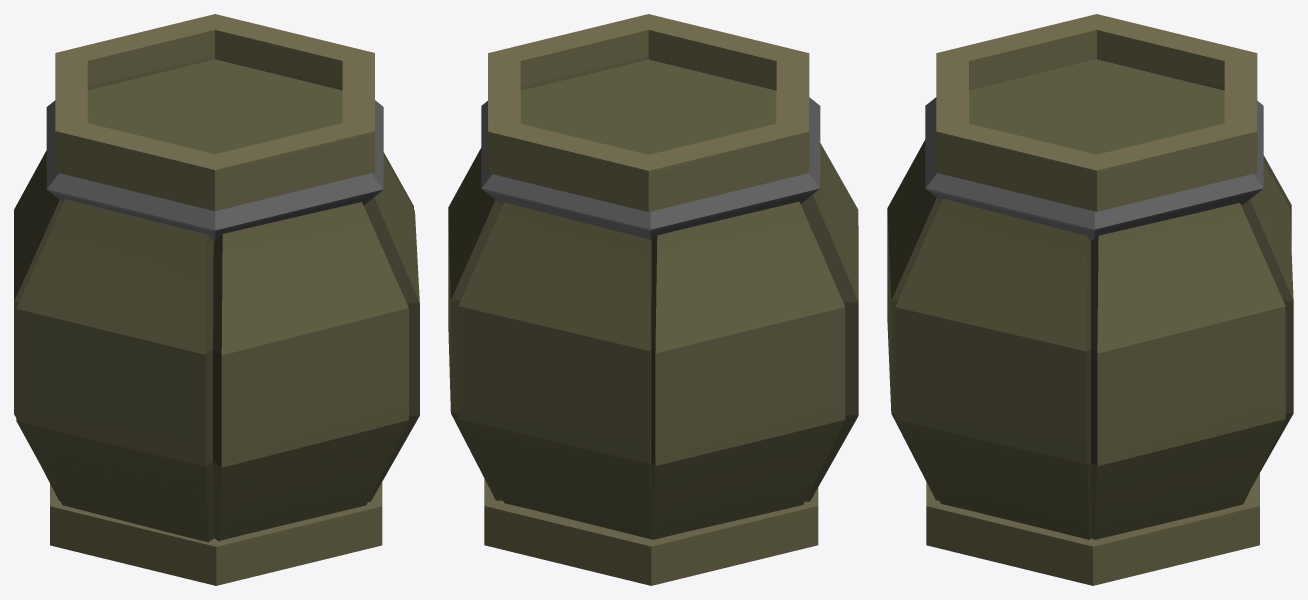
File: hang.fbx
3 renders of one model, left to right at view 1: azimuth 30°, elevation 25°; view 2: azimuth 150°, elevation 25°; view 3: azimuth 270°, elevation 25°, orthographic.
Visible parts, largest first — view 1: Box079; view 2: Box079; view 3: Box079.
Part boxes in pixels (left/top/right/bottom): Box079: left=14, top=14, right=419, bottom=585; Box079: left=448, top=14, right=858, bottom=585; Box079: left=887, top=14, right=1293, bottom=585.
Bounding box in the file's own units: 33.32 × 32.47 × 28.97.
